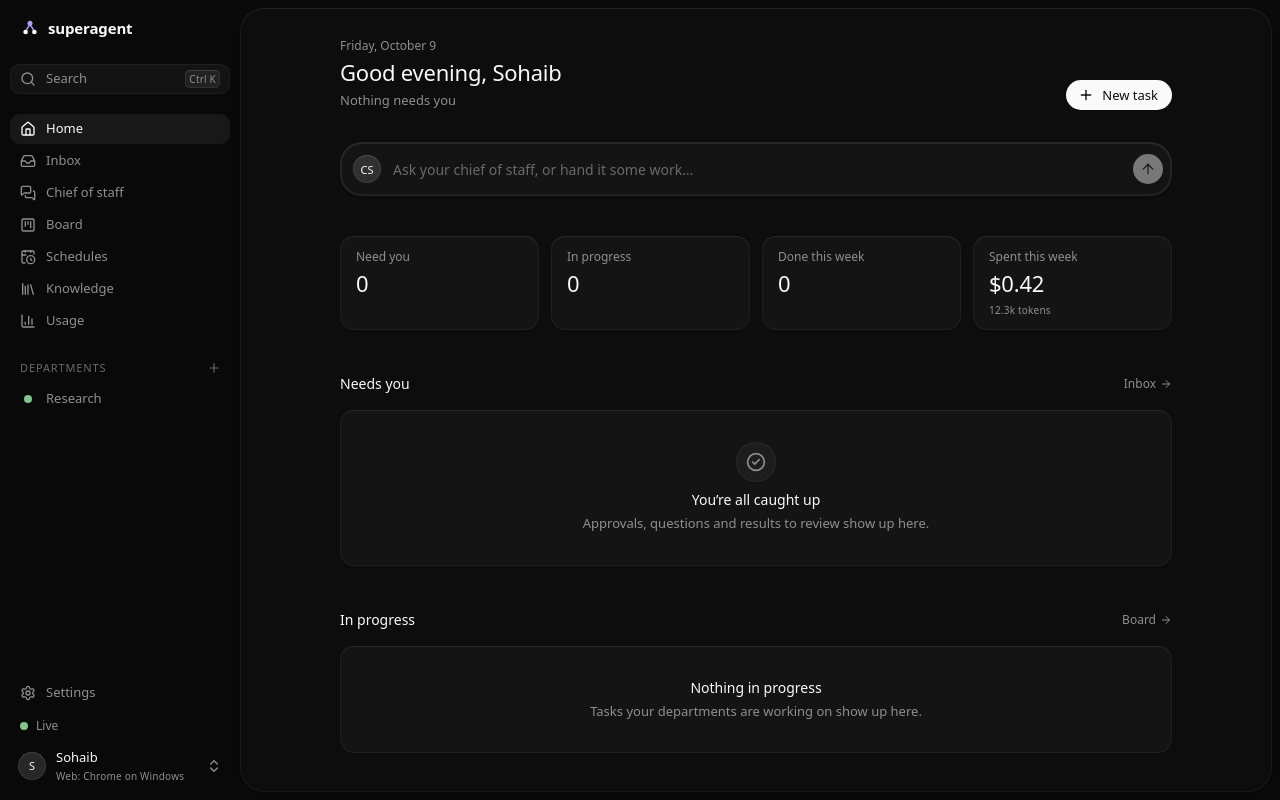
Test case: the command palette, for the organization › finds agents by name or department, and opens a new department
Expected: the heading "Good evening, Sohaib" is shown, top-left (340, 59), bottom-right (562, 87)
Type keys "{Control>}k{/Control}"
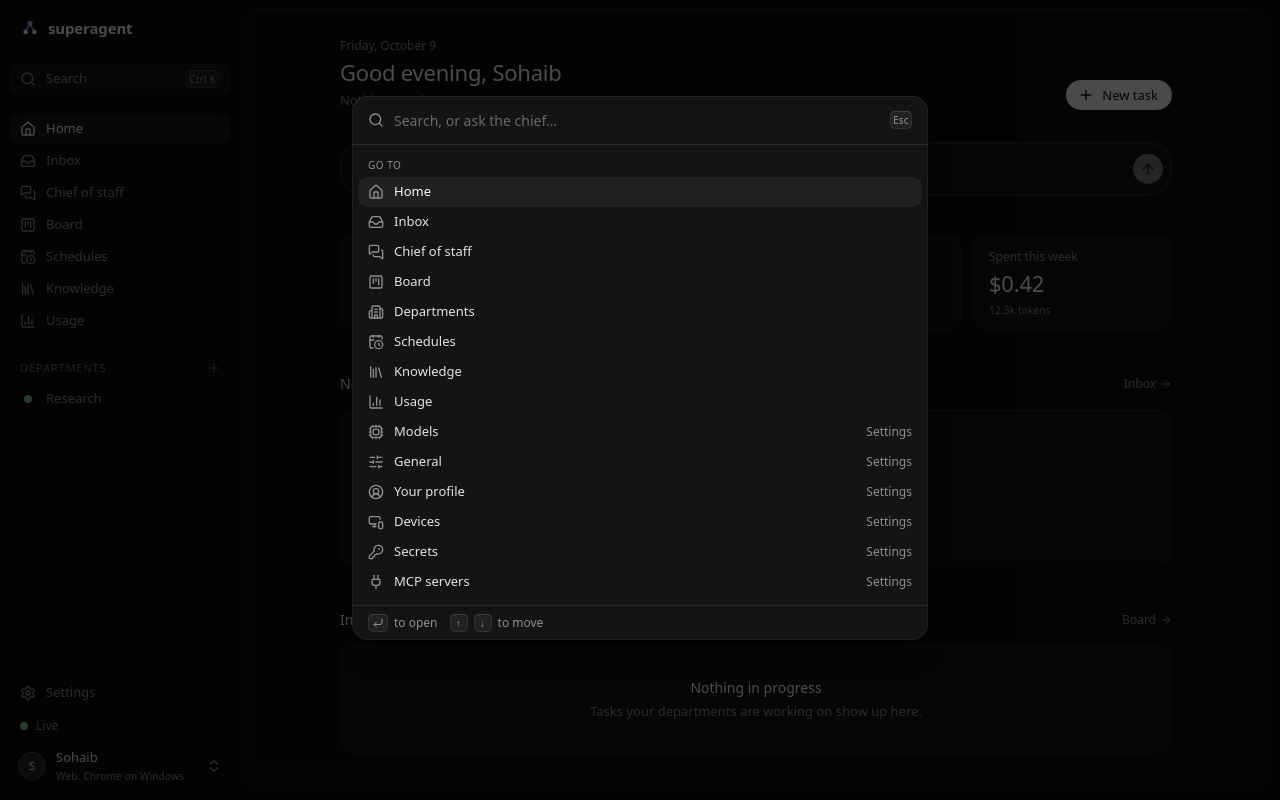
Type "research lead" into the dropdown named "search pages".
click(637, 120); type("research lead")  # box top-left (394, 96), bottom-right (880, 144)
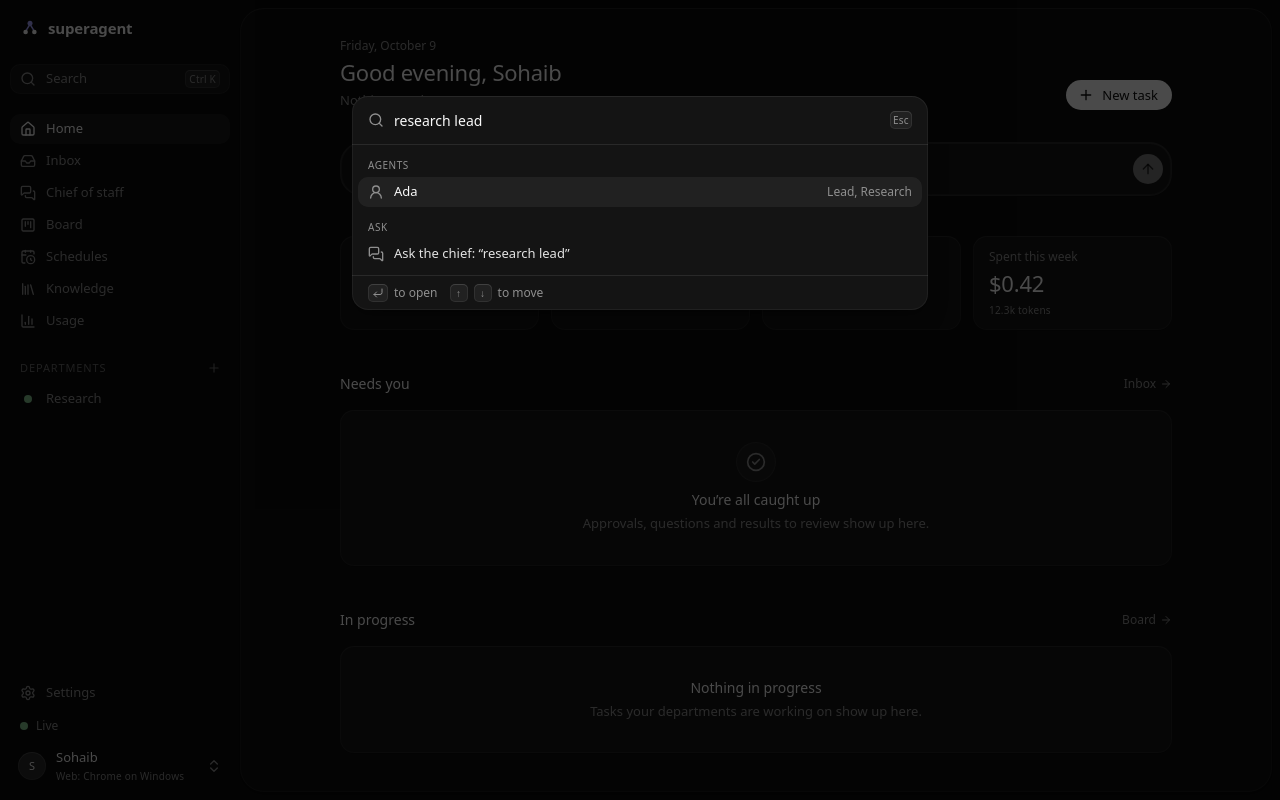
Result: the option "Ada Lead, Research" is shown
Click the option "Ada Lead, Research".
click(870, 192)  # box top-left (358, 177), bottom-right (922, 207)
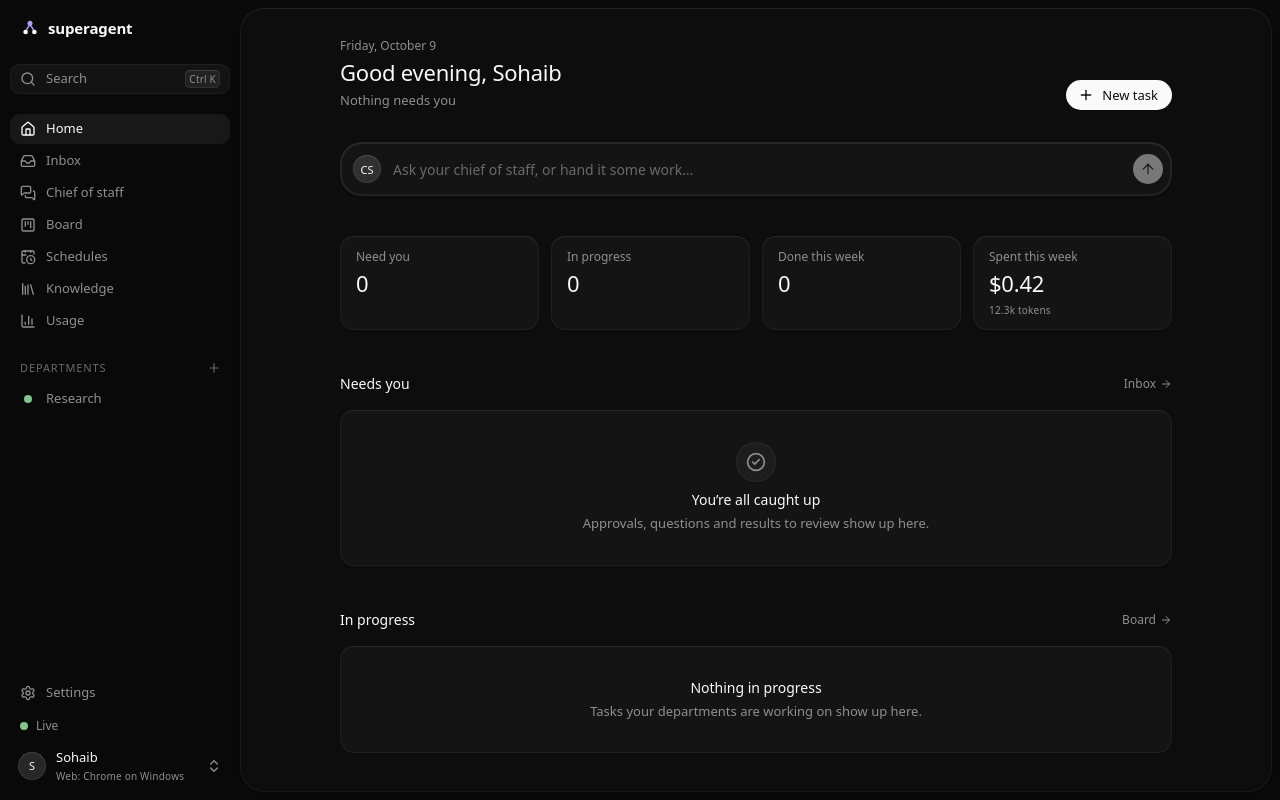
Type keys "{Control>}k{/Control}"
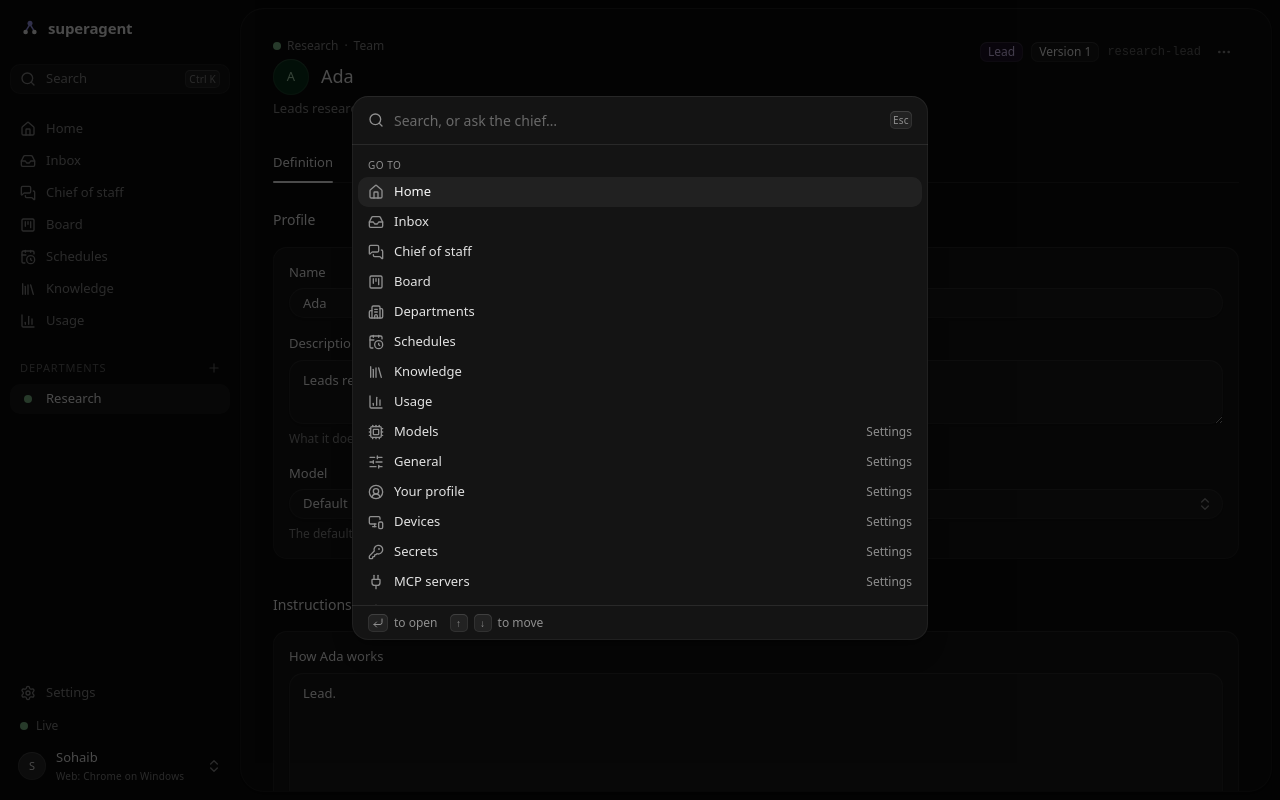
Type "new department" into the dropdown named "search pages".
click(637, 120); type("new department")  # box top-left (394, 96), bottom-right (880, 144)
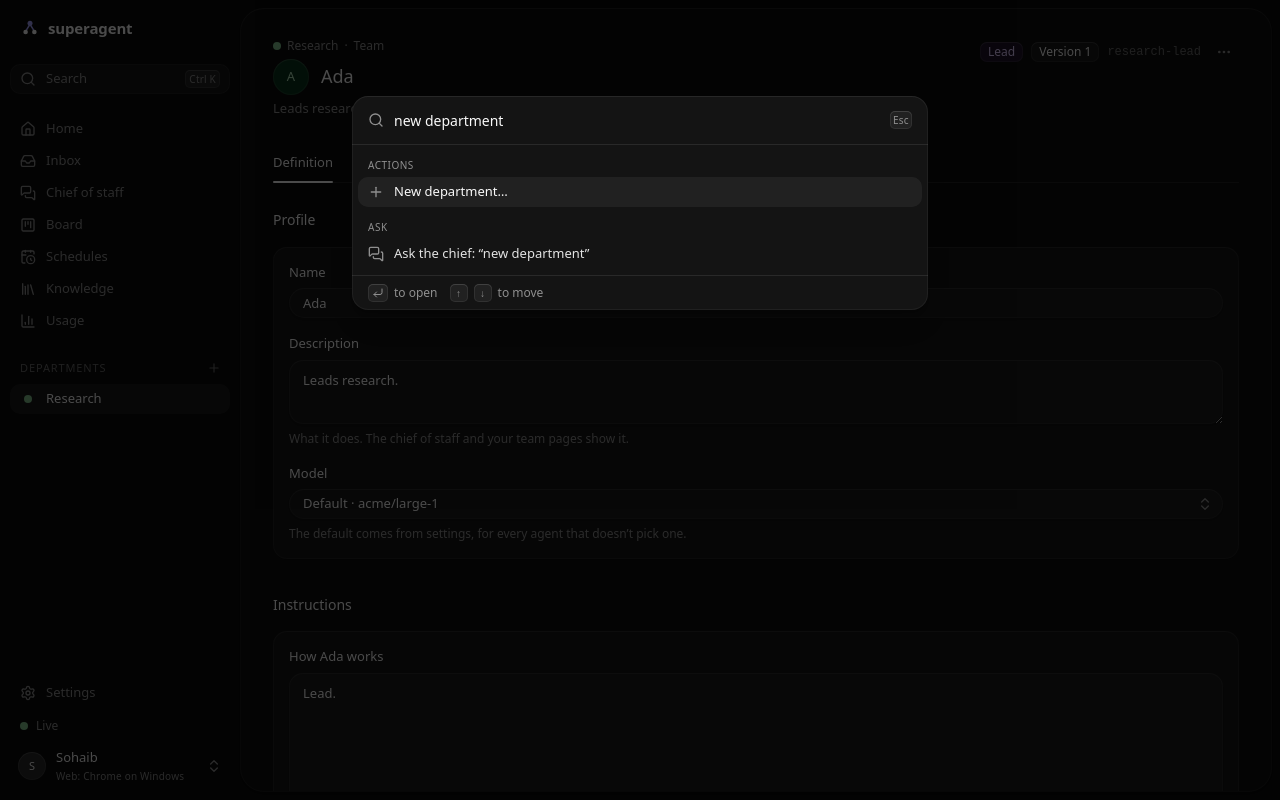
Press Enter
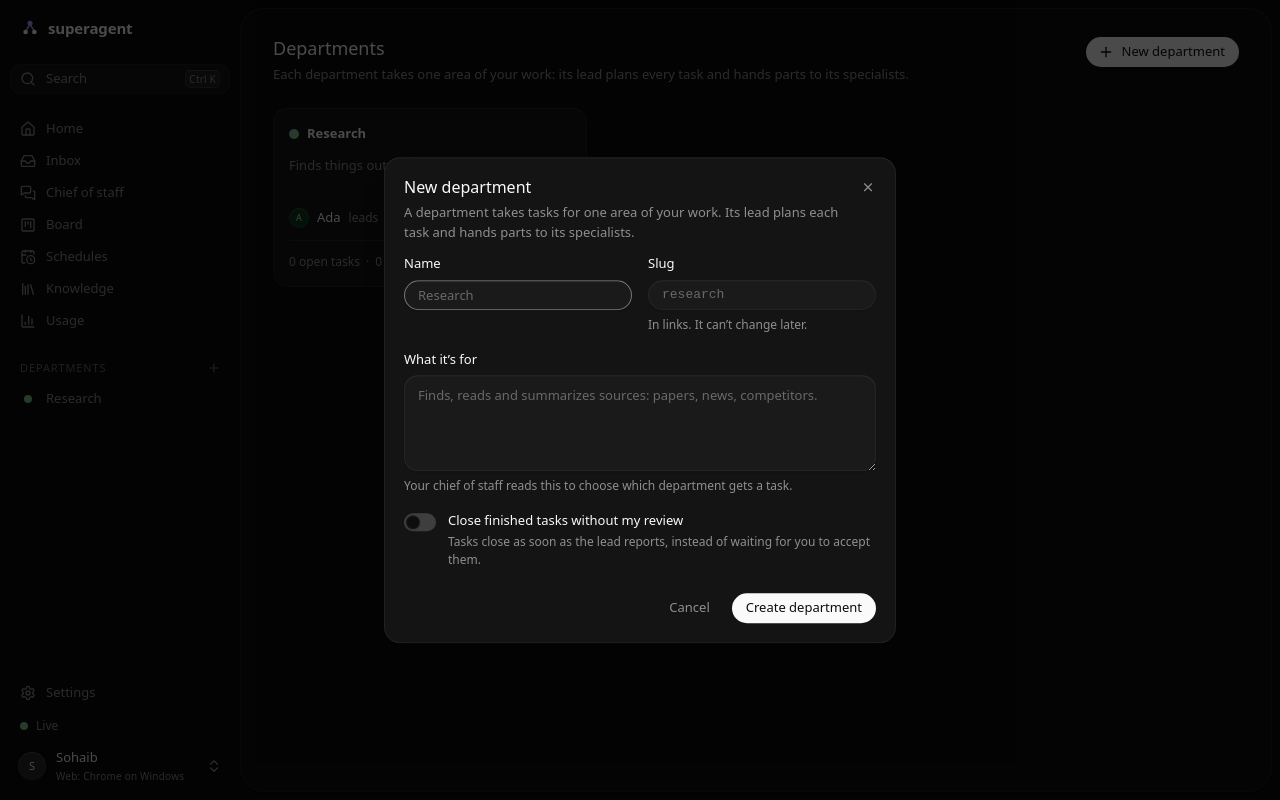
Result: the dialog "New department" is shown at top-left (384, 157), bottom-right (896, 643)
